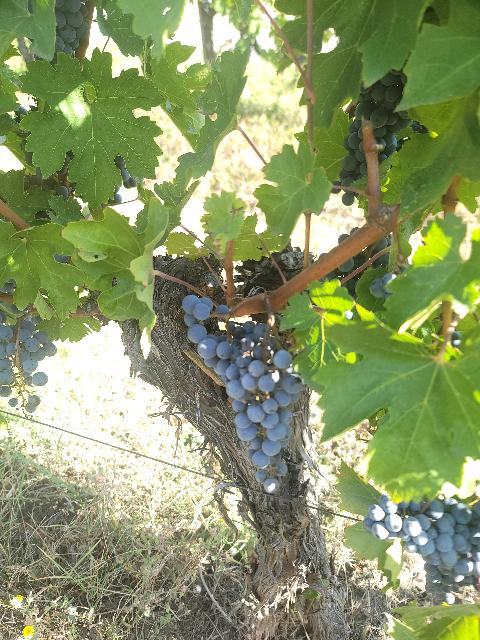grapes: (362, 494, 480, 604), (226, 344, 304, 494), (181, 295, 255, 381), (0, 316, 58, 398)
